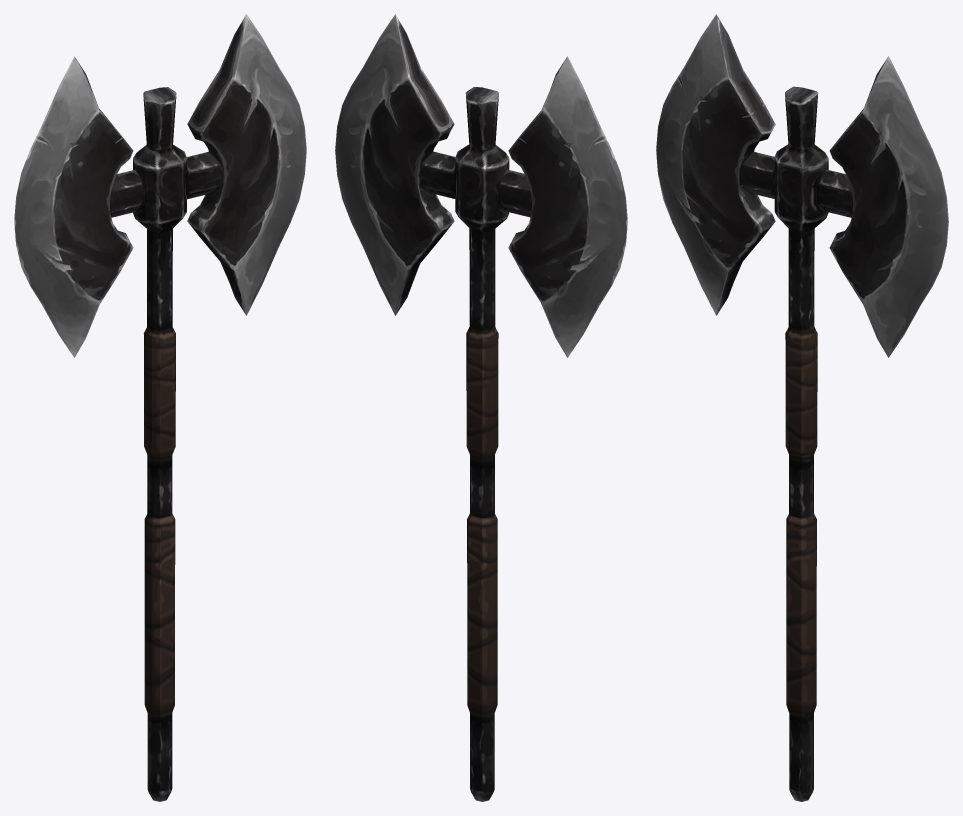
Rendered from W_Axe_2Hand_1.fbx.
3 renders of one model, left to right at view 1: azimuth 30°, elevation 25°; view 2: azimuth 150°, elevation 25°; view 3: azimuth 330°, elevation 25°, orthographic.
Parts seen in each view (by area): view 1: W_Axe_2Hand_Knight_1_LOD0; view 2: W_Axe_2Hand_Knight_1_LOD0; view 3: W_Axe_2Hand_Knight_1_LOD0.
Part boxes in pixels (box(x1,y1,x2,y2)): W_Axe_2Hand_Knight_1_LOD0: box(14, 14, 306, 801); W_Axe_2Hand_Knight_1_LOD0: box(335, 14, 627, 801); W_Axe_2Hand_Knight_1_LOD0: box(656, 14, 948, 801).
Size of what is drawn, in the model's own units: 0.7729 by 1.93 by 0.1021.
